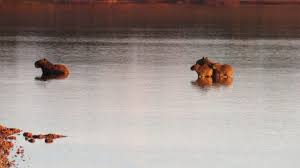capivara: (196, 57, 234, 86), (33, 58, 71, 83), (190, 63, 213, 83)
